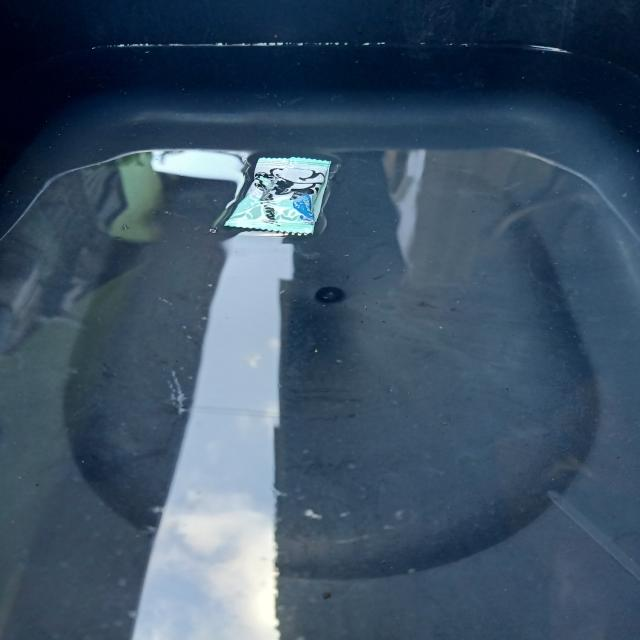Plastic Wrapper: (210, 148, 348, 248)
